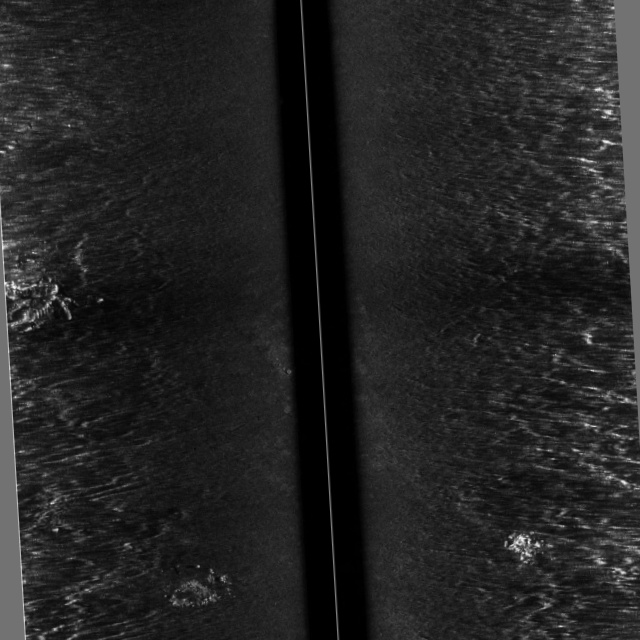Shipwreck: (4, 250, 549, 618)
